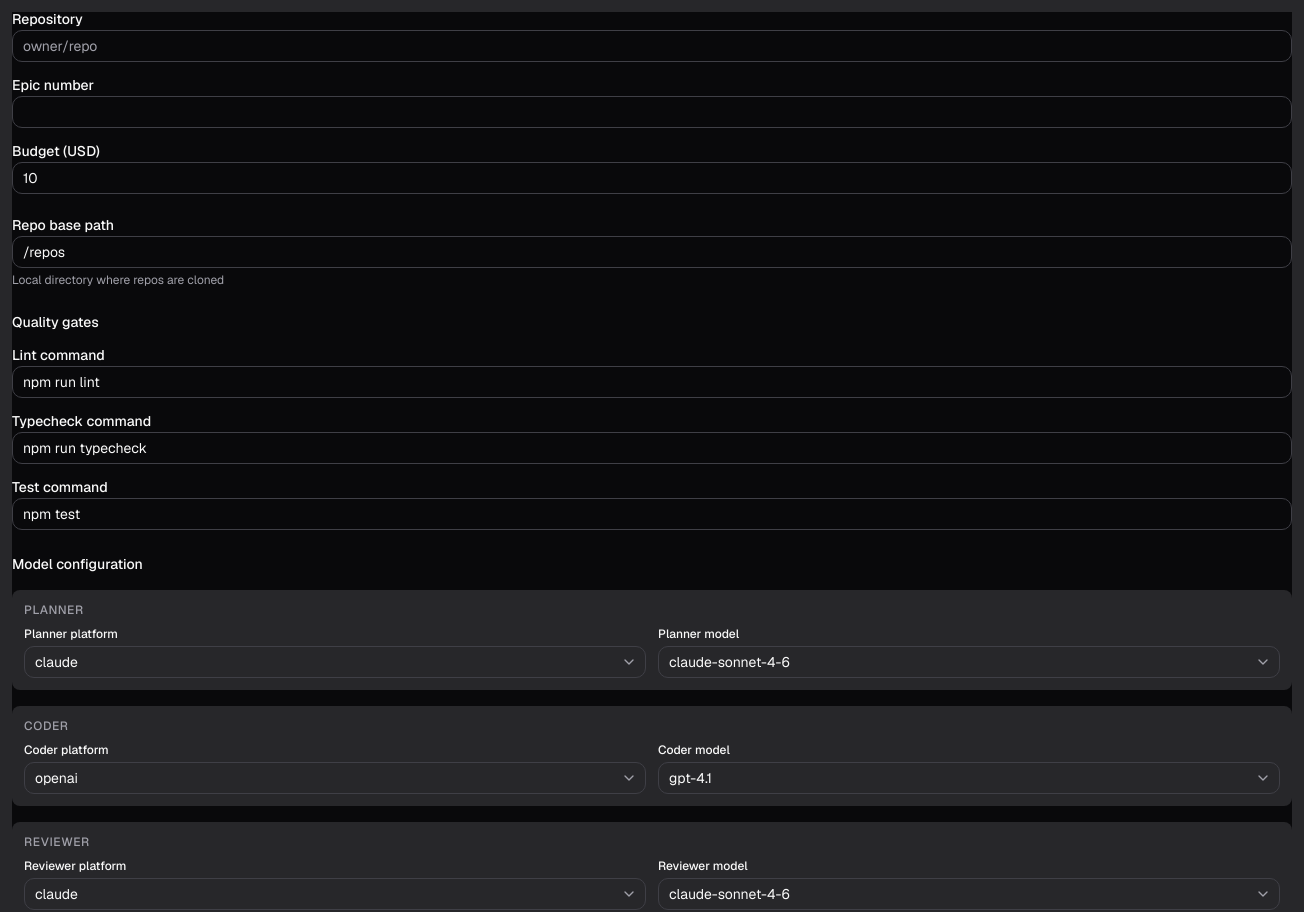
it: RunForm › should update model options when platform changes
// Open the coder platform select and pick Claude
Click the dropdown named "Coder platform" at (56, 778), box 24,762 -> 646,794
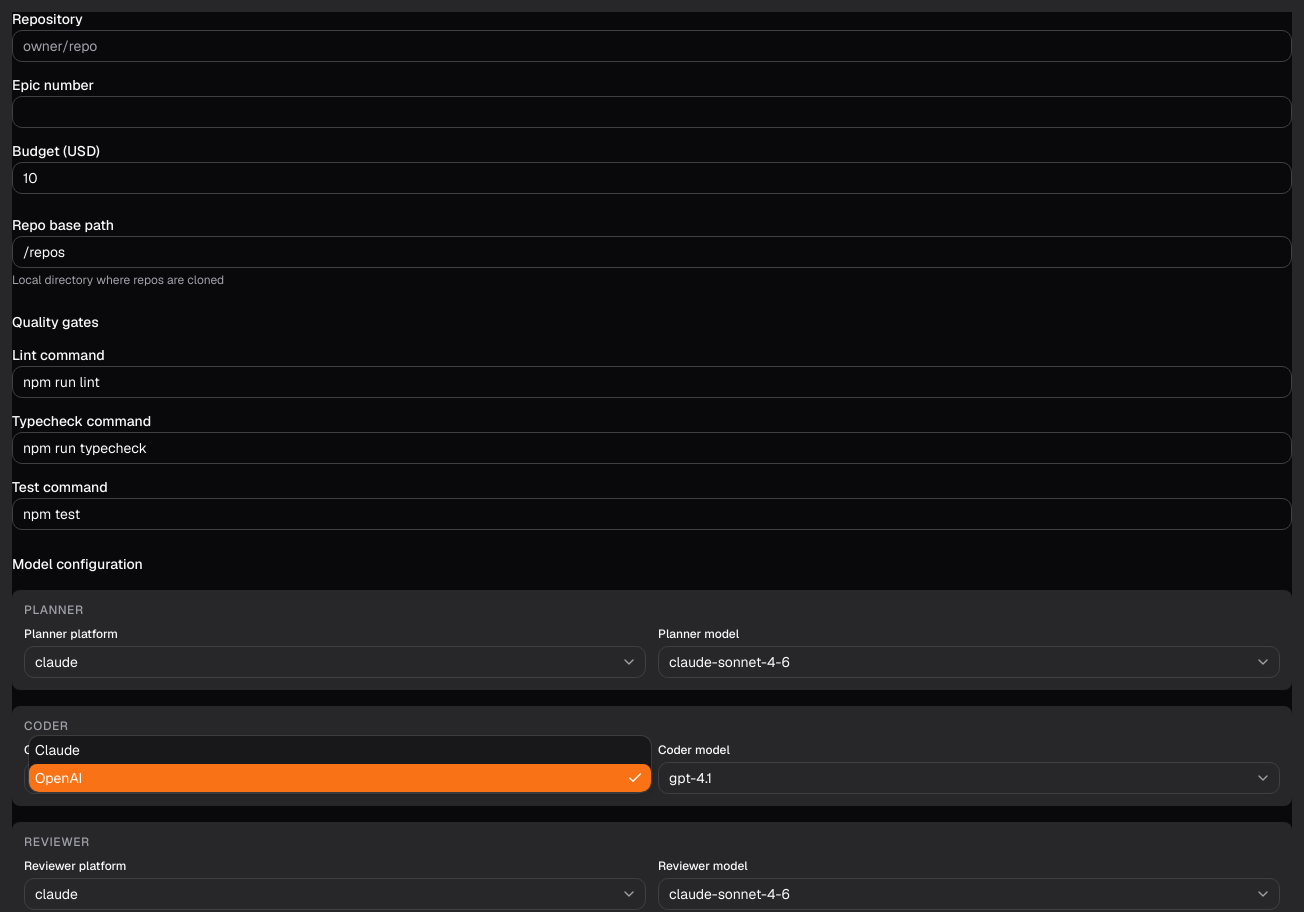
Click the option "Claude" at (58, 750), box 35,741 -> 80,759
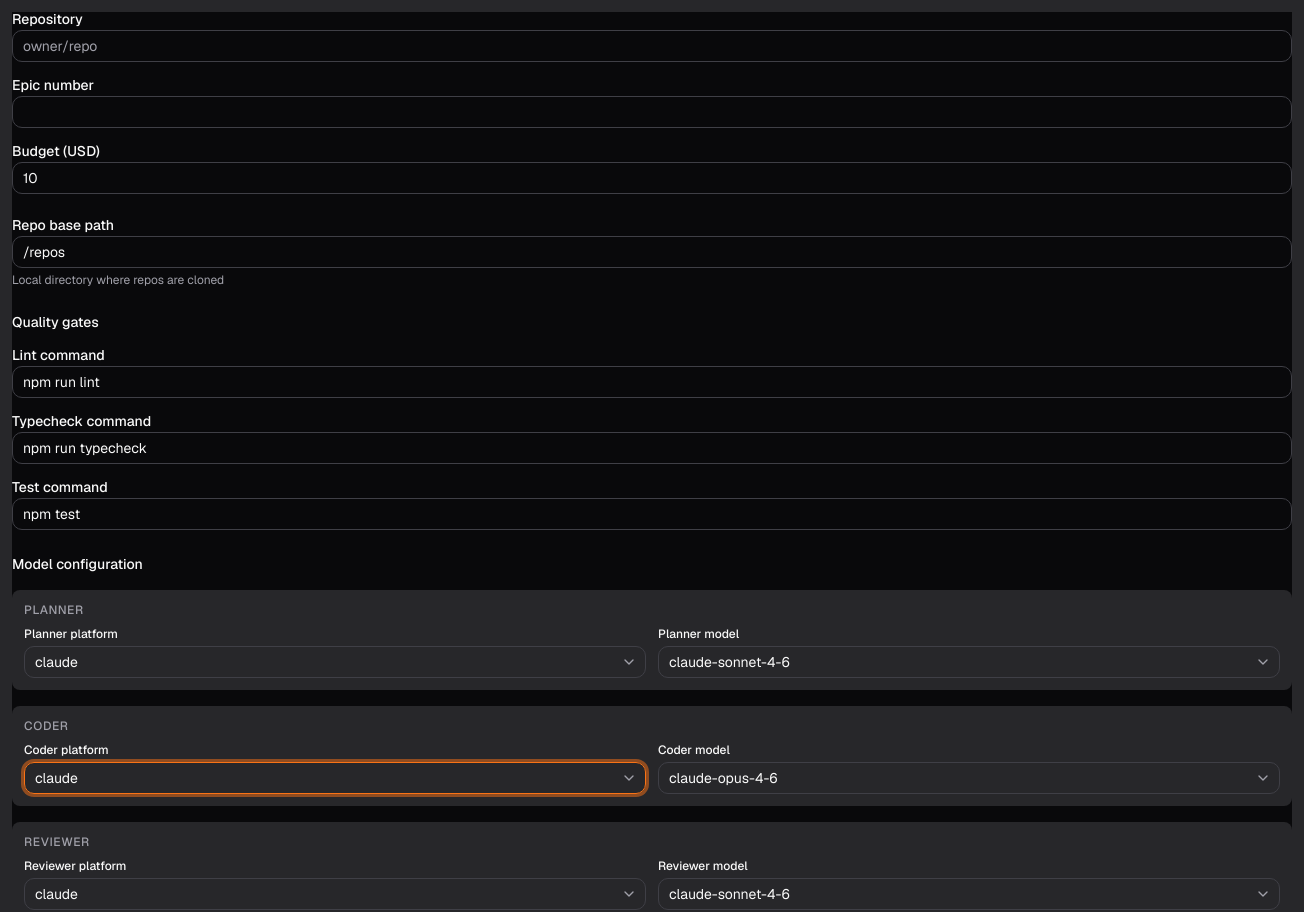
Expected: the dropdown named "Coder model" shows "claude-", 658,762 -> 1280,794
